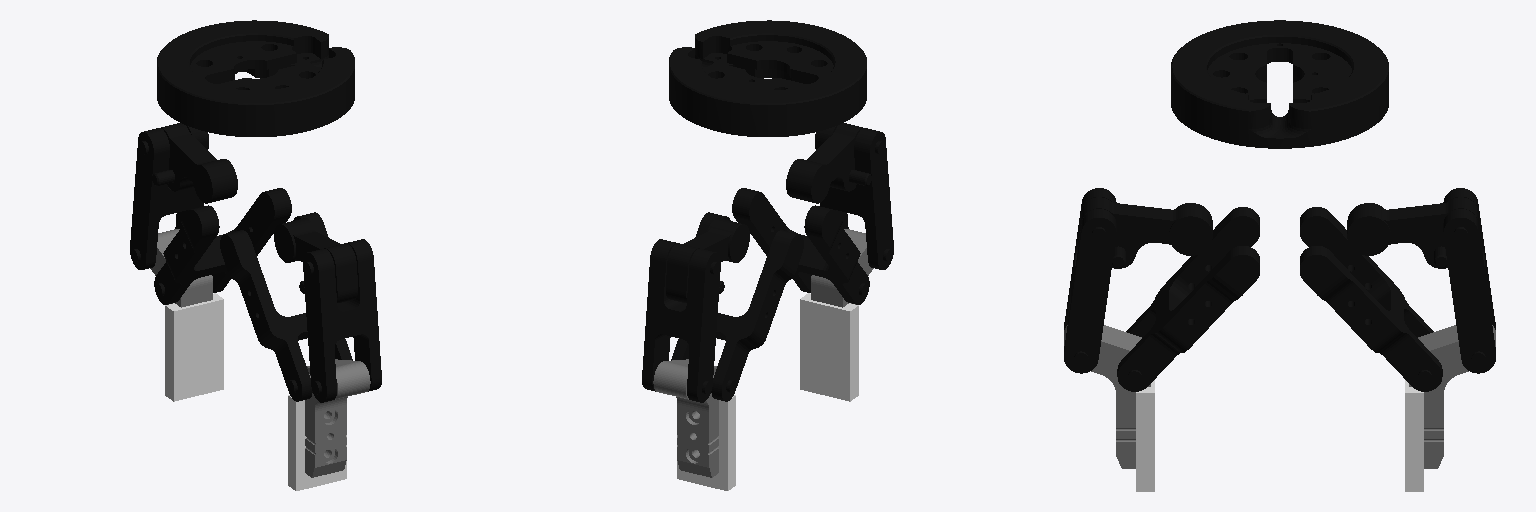
The robot description file, URDF, robot "panda":
<?xml version="1.0" ?>
<!-- =================================================================================== -->
<!-- |    This document was autogenerated by xacro from panda_arm_hand.urdf.xacro      | -->
<!-- |    EDITING THIS FILE BY HAND IS NOT RECOMMENDED                                 | -->
<!-- =================================================================================== -->
<robot name="panda" xmlns:xacro="http://www.ros.org/wiki/xacro">
  <link name="base_link">
    <visual>
      <geometry>
        <mesh filename="/franka_panda/visual/link0.dae"/>
      </geometry>
      <material name="panda_white"/>
    </visual>
    <collision>
      <geometry>
        <mesh filename="/franka_panda/visual/link0.dae"/>
      </geometry>
      <material name="panda_white"/>
    </collision>

    <inertial>
      <mass value="0.0"/>
      <origin xyz="0.0 0.0 0.0"/>
      <inertia ixx="0.000380" ixy="0.000000" ixz="0.000000" iyx="0.000000" iyy="0.001110" iyz="0.000000" izx="0.000000" izy="0.000000" izz="0.001171"/>
    </inertial>

  </link>

  <link name="panda_link1">
    <visual>
      <geometry>
        <mesh filename="/franka_panda/visual/link1.dae"/>
      </geometry>
      <material name="panda_white"/>
    </visual>
    <collision>
      <geometry>
        <mesh filename="/franka_panda/visual/link1.dae"/>
      </geometry>
      <material name="panda_white"/>
    </collision>
  </link>
  <joint name="panda_joint1" type="revolute">
    <safety_controller k_position="100.0" k_velocity="40.0" soft_lower_limit="-2.8973" soft_upper_limit="2.8973"/>
    <origin rpy="0 0 0" xyz="0 0 0.333"/>
    <parent link="base_link"/>
    <child link="panda_link1"/>
    <axis xyz="0 0 1"/>
    <limit effort="87" lower="-2.9671" upper="2.9671" velocity="2.1750"/>
  </joint>
  <link name="panda_link2">
    <visual>
      <geometry>
        <mesh filename="/franka_panda/visual/link2.dae"/>
      </geometry>
      <material name="panda_white"/>
    </visual>
    <collision>
      <geometry>
        <mesh filename="/franka_panda/visual/link2.dae"/>
      </geometry>
      <material name="panda_white"/>
    </collision>
  </link>
  <joint name="panda_joint2" type="revolute">
    <safety_controller k_position="100.0" k_velocity="40.0" soft_lower_limit="-1.7628" soft_upper_limit="1.7628"/>
    <origin rpy="-1.57079632679 0 0" xyz="0 0 0"/>
    <parent link="panda_link1"/>
    <child link="panda_link2"/>
    <axis xyz="0 0 1"/>
    <limit effort="87" lower="-1.8326" upper="1.8326" velocity="2.1750"/>
  </joint>
  <link name="panda_link3">
    <visual>
      <geometry>
        <mesh filename="/franka_panda/visual/link3.dae"/>
      </geometry>
      <material name="panda_white"/>
    </visual>
    <collision>
      <geometry>
        <mesh filename="/franka_panda/visual/link3.dae"/>
      </geometry>
      <material name="panda_white"/>
    </collision>
  </link>
  <joint name="panda_joint3" type="revolute">
    <safety_controller k_position="100.0" k_velocity="40.0" soft_lower_limit="-2.8973" soft_upper_limit="2.8973"/>
    <origin rpy="1.57079632679 0 0" xyz="0 -0.316 0"/>
    <parent link="panda_link2"/>
    <child link="panda_link3"/>
    <axis xyz="0 0 1"/>
    <limit effort="87" lower="-2.9671" upper="2.9671" velocity="2.1750"/>
  </joint>
  <link name="panda_link4">
    <visual>
      <geometry>
        <mesh filename="/franka_panda/visual/link4.dae"/>
      </geometry>
      <material name="panda_white"/>
    </visual>
    <collision>
      <geometry>
        <mesh filename="/franka_panda/visual/link4.dae"/>
      </geometry>
      <material name="panda_white"/>
    </collision>
  </link>
  <joint name="panda_joint4" type="revolute">
    <safety_controller k_position="100.0" k_velocity="40.0" soft_lower_limit="-3.0718" soft_upper_limit="-0.0698"/>
    <origin rpy="1.57079632679 0 0" xyz="0.0825 0 0"/>
    <parent link="panda_link3"/>
    <child link="panda_link4"/>
    <axis xyz="0 0 1"/>
    <limit effort="87" lower="-3.1416" upper="0.0" velocity="2.1750"/>
  </joint>
  <link name="panda_link5">
    <visual>
      <geometry>
        <mesh filename="/franka_panda/visual/link5.dae"/>
      </geometry>
      <material name="panda_white"/>
    </visual>
    <collision>
      <geometry>
        <mesh filename="/franka_panda/visual/link5.dae"/>
      </geometry>
      <material name="panda_white"/>
    </collision>
  </link>
  <joint name="panda_joint5" type="revolute">
    <safety_controller k_position="100.0" k_velocity="40.0" soft_lower_limit="-2.8973" soft_upper_limit="2.8973"/>
    <origin rpy="-1.57079632679 0 0" xyz="-0.0825 0.384 0"/>
    <parent link="panda_link4"/>
    <child link="panda_link5"/>
    <axis xyz="0 0 1"/>
    <limit effort="12" lower="-2.9671" upper="2.9671" velocity="2.6100"/>
  </joint>
  <link name="panda_link6">
    <visual>
      <geometry>
        <mesh filename="/franka_panda/visual/link6.dae"/>
      </geometry>
#      <material name="panda_white"/>
    </visual>
    <collision>
      <geometry>
        <mesh filename="/franka_panda/visual/link6.dae"/>
      </geometry>
      <material name="panda_white"/>
    </collision>
  </link>
  <joint name="panda_joint6" type="revolute">
    <safety_controller k_position="100.0" k_velocity="40.0" soft_lower_limit="-0.0175" soft_upper_limit="3.7525"/>
    <origin rpy="1.57079632679 0 0" xyz="0 0 0"/>
    <parent link="panda_link5"/>
    <child link="panda_link6"/>
    <axis xyz="0 0 1"/>
    <limit effort="12" lower="-0.0873" upper="3.8223" velocity="2.6100"/>
  </joint>
  <link name="panda_link7">
    <visual>
      <geometry>
        <mesh filename="/franka_panda/visual/link7.dae"/>
      </geometry>
      <material name="panda_white"/>
    </visual>
    <collision>
      <geometry>
        <mesh filename="/franka_panda/visual/link7.dae"/>
      </geometry>
      <material name="panda_white"/>
    </collision>
  </link>
  <joint name="panda_joint7" type="revolute">
    <safety_controller k_position="100.0" k_velocity="40.0" soft_lower_limit="-2.8973" soft_upper_limit="2.8973"/>
    <origin rpy="1.57079632679 0 0" xyz="0.088 0 0"/>
    <parent link="panda_link6"/>
    <child link="panda_link7"/>
    <axis xyz="0 0 1"/>
    <limit effort="12" lower="-2.9671" upper="2.9671" velocity="2.6100"/>
  </joint>
  <link name="panda_link8"/>

  <joint name="panda_joint8" type="fixed">
    <origin rpy="0 0 0" xyz="0 0 0.107"/>
    <parent link="panda_link7"/>
    <child link="panda_link8"/>
    <axis xyz="0 0 0"/>
  </joint>

  <joint name="panda_robotiq_coupling" type="fixed">
    <origin rpy="0 0 0" xyz="0 0 0"/>
    <parent link="panda_link8"/>
    <child link="robotiq_85_coupling_link"/>
    <axis xyz="0 0 0"/>
  </joint>

  <link name="robotiq_85_coupling_link">
    <visual>
      <geometry>
        <mesh filename="robotiq_2f_85/visual/robotiq_gripper_couplingvn.obj"/>
      </geometry>
      <material name="dark black"/>
    </visual>
    <collision>
      <geometry>
        <mesh filename="robotiq_2f_85/visual/robotiq_gripper_couplingvn.obj"/>
      </geometry>
    </collision>
  </link>

  <joint name="robotiq_85_base_joint" type="fixed">
    <parent link="robotiq_85_coupling_link"/>
    <child link="robotiq_85_base_link"/>
    <origin rpy="0 0 0" xyz="0 0 0"/>
  </joint>

  <link name="robotiq_85_base_link">
    <visual>
      <geometry>
        <mesh filename="robotiq_2f_85/visual/robotiq_arg2f_85_base_linkvn.obj"/>
      </geometry>
      <material name="Black"/>
    </visual>
    <collision>
      <geometry>
        <mesh filename="robotiq_2f_85/visual/robotiq_arg2f_85_base_linkvn.obj"/>
      </geometry>
    </collision>
      <inertial>
        <origin xyz="8.625E-08 -4.6583E-06 0.03145" rpy="0 0 0" />
        <mass value="0.22652" />
        <inertia ixx="0.00020005" ixy="-4.2442E-10" ixz="-2.9069E-10" iyy="0.00017832" iyz="-3.4402E-08" izz="0.00013478" />
      </inertial>
  </link>

  <joint name="robotiq_85_left_knuckle_joint" type="revolute">
    <parent link="robotiq_85_base_link"/>
    <child link="robotiq_85_left_knuckle_link"/>
    <axis xyz="1 0 0"/>
    <origin rpy="0 0.0 3.1415926" xyz="0 -0.0306011 0.054904"/>
    <limit lower="0" upper="0.81" velocity="100.0"/>
  </joint>
  <joint name="robotiq_85_right_knuckle_joint" type="revolute">
    <parent link="robotiq_85_base_link"/>
    <child link="robotiq_85_right_knuckle_link"/>
    <axis xyz="1 0 0"/>
    <origin rpy="0.0 0.0 0" xyz="0 0.0306011 0.054904"/>
    <limit lower="0" upper="0.81" velocity="100.0"/>
  </joint>

  <link name="robotiq_85_left_knuckle_link">
    <visual>
      <geometry>
        <mesh filename="robotiq_2f_85/visual/robotiq_arg2f_85_outer_knucklevn.obj"/>
      </geometry>
    <material name="Black"/>
    </visual>
    <collision>
      <geometry>
        <mesh filename="robotiq_2f_85/visual/robotiq_arg2f_85_outer_knucklevn.obj"/>
      </geometry>
    </collision>
    <!--<inertial>
        <origin xyz="-0.000200000000003065 0.0199435877845359 0.0292245259211331" rpy="0 0 0" />
        <mass value="0.00853198276973456" />
        <inertia ixx="2.89328108496468E-06" ixy="-1.57935047237397E-19" ixz="-1.93980378593255E-19" iyy="1.86719750325683E-06" iyz="-1.21858577871576E-06" izz="1.21905238907251E-06" />
    </inertial>-->
  </link>

  <link name="robotiq_85_right_knuckle_link">
    <visual>
      <geometry>
        <mesh filename="robotiq_2f_85/visual/robotiq_arg2f_85_outer_knucklevn.obj"/>
      </geometry>
      <material name="Black"/>
    </visual>
    <collision>
      <geometry>
        <mesh filename="robotiq_2f_85/visual/robotiq_arg2f_85_outer_knucklevn.obj"/>
      </geometry>
    </collision>
    <!--<inertial>
        <origin xyz="-0.000200000000003065 0.0199435877845359 0.0292245259211331" rpy="0 0 0" />
        <mass value="0.00853198276973456" />
        <inertia ixx="2.89328108496468E-06" ixy="-1.57935047237397E-19" ixz="-1.93980378593255E-19" iyy="1.86719750325683E-06" iyz="-1.21858577871576E-06" izz="1.21905238907251E-06" />
    </inertial>-->
  </link>


  <joint name="robotiq_85_left_finger_joint" type="fixed">
    <parent link="robotiq_85_left_knuckle_link"/>
    <child link="robotiq_85_left_finger_link"/>
    <origin rpy="0 0 0" xyz="0 0.0315 -0.0041"/>
    <limit lower="-3.14" upper="3.14" velocity="100.0"/>
  </joint>
  <joint name="robotiq_85_right_finger_joint" type="fixed">
    <parent link="robotiq_85_right_knuckle_link"/>
    <child link="robotiq_85_right_finger_link"/>
    <origin rpy="0 0 0" xyz="0 0.0315 -0.0041"/>
    <limit lower="-3.14" upper="3.14" velocity="100.0"/>
  </joint>

  <link name="robotiq_85_left_finger_link">
    <visual>
      <geometry>
        <mesh filename="robotiq_2f_85/visual/robotiq_arg2f_85_outer_fingervn.obj"/>
      </geometry>
      <material name="Black"/>
    </visual>
    <collision>
      <geometry>
        <mesh filename="robotiq_2f_85/visual/robotiq_arg2f_85_outer_fingervn.obj"/>
      </geometry>
    </collision>
    <!--<inertial>
      <mass value="0.027309"/>
      <origin xyz="0.0 0.0 0.0"/>
      <inertia ixx="0.000003" ixy="-0.000002" ixz="0.000000" iyx="-0.000002" iyy="0.000021" iyz="0.000000" izx="0.000000" izy="0.000000" izz="0.000020"/>
    </inertial>-->
  </link>
  <link name="robotiq_85_right_finger_link">
    <visual>
      <geometry>
        <mesh filename="robotiq_2f_85/visual/robotiq_arg2f_85_outer_fingervn.obj"/>
      </geometry>
      <material name="Black"/>
    </visual>
    <collision>
      <geometry>
        <mesh filename="robotiq_2f_85/visual/robotiq_arg2f_85_outer_fingervn.obj"/>
      </geometry>
    </collision>
    <!--<inertial>
      <mass value="0.027309"/>
      <origin xyz="0.0 0.0 0.0"/>
      <inertia ixx="0.000003" ixy="-0.000002" ixz="0.000000" iyx="-0.000002" iyy="0.000021" iyz="0.000000" izx="0.000000" izy="0.000000" izz="0.000020"/>
    </inertial>-->
  </link>

<joint name="robotiq_85_left_inner_knuckle_joint" type="revolute">
    <parent link="robotiq_85_base_link"/>
    <child link="robotiq_85_left_inner_knuckle_link"/>
    <axis xyz="1 0 0"/>
    <origin rpy="0 0.0 0" xyz="0 0.0127 0.06142"/>
    <limit lower="0" upper="0.8757" velocity="100.0"/>
  </joint>
  <joint name="robotiq_85_right_inner_knuckle_joint" type="revolute">
    <parent link="robotiq_85_base_link"/>
    <child link="robotiq_85_right_inner_knuckle_link"/>
    <axis xyz="1 0 0"/>
    <origin rpy="0 0 3.1415926" xyz="0 -0.0127 0.06142"/>
    <limit lower="0" upper="0.8757" velocity="100.0"/>
  </joint>
  <link name="robotiq_85_left_inner_knuckle_link">
    <visual>
      <geometry>
        <mesh filename="robotiq_2f_85/visual/robotiq_arg2f_85_inner_knucklevn.obj"/>
      </geometry>
      <material name="Black"/>
    </visual>
    <collision>
      <geometry>
        <mesh filename="robotiq_2f_85/visual/robotiq_arg2f_85_inner_knucklevn.obj"/>
      </geometry>
    </collision>
    <!--<inertial>
      <mass value="0.029951"/>
      <origin xyz="0.0 0.0 0.0"/>
      <inertia ixx="0.000039" ixy="0.000000" ixz="0.000000" iyx="0.000000" iyy="0.000005" iyz="0.000000" izx="0.000000" izy="0.000000" izz="0.000035"/>
    </inertial>-->
  </link>
  <link name="robotiq_85_right_inner_knuckle_link">
    <visual>
     <geometry>
        <mesh filename="robotiq_2f_85/visual/robotiq_arg2f_85_inner_knucklevn.obj"/>
      </geometry>
      <material name="Black"/>
    </visual>
    <collision>
     <geometry>
        <mesh filename="robotiq_2f_85/visual/robotiq_arg2f_85_inner_knucklevn.obj"/>
      </geometry>
    </collision>
    <!--<inertial>
      <mass value="0.029951"/>
      <origin xyz="0.0 0.0 0.0"/>
      <inertia ixx="0.000039" ixy="0.000000" ixz="0.000000" iyx="0.000000" iyy="0.000005" iyz="0.000000" izx="0.000000" izy="0.000000" izz="0.000035"/>
    </inertial>-->
  </link>

  <joint name="robotiq_85_left_finger_tip_joint" type="revolute">
    <parent link="robotiq_85_left_finger_link"/>
    <child link="robotiq_85_left_finger_tip_link"/>
    <axis xyz="1 0 0"/>
    <origin rpy="0.0 0.0 0.0" xyz="0 0.0061 0.0471"/>
    <limit lower="0" upper="-0.8" velocity="100.0"/>
  </joint>
  <joint name="robotiq_85_right_finger_tip_joint" type="revolute">
    <parent link="robotiq_85_right_finger_link"/>
    <child link="robotiq_85_right_finger_tip_link"/>
    <axis xyz="1 0 0"/>
    <origin rpy="0.0 0.0 0.0" xyz="0 0.0061 0.0471"/>
    <limit lower="0" upper="-0.8" velocity="100.0"/>
  </joint>

  <link name="robotiq_85_left_finger_tip_link">
    <contact>
      <lateral_friction value="2.0"/>
      <spinning_friction value="0.1"/>
    </contact>
    <visual>
      <geometry>
        <mesh filename="robotiq_2f_85/visual/robotiq_arg2f_85_inner_fingervn.obj"/>
      </geometry>
      <material name="Gray"/>
    </visual>
    <collision>
      <geometry>
        <mesh filename="robotiq_2f_85/visual/robotiq_arg2f_85_inner_fingervn.obj"/>
      </geometry>
    </collision>
    <!--<inertial>
      <mass value="0.019555"/>
      <origin xyz="0.0 0.0 0.0"/>
      <inertia ixx="0.000002" ixy="0.000000" ixz="0.000000" iyx="0.000000" iyy="0.000005" iyz="0.000000" izx="0.000000" izy="0.000000" izz="0.000006"/>
    </inertial> -->
  </link>
  <link name="robotiq_85_right_finger_tip_link">
    <contact>
      <lateral_friction value="2.0"/>
      <spinning_friction value="0.1"/>
    </contact>
    <visual>
      <geometry>
        <mesh filename="robotiq_2f_85/visual/robotiq_arg2f_85_inner_fingervn.obj"/>
      </geometry>
      <material name="Gray"/>
    </visual>
    <collision>
      <geometry>
        <mesh filename="robotiq_2f_85/visual/robotiq_arg2f_85_inner_fingervn.obj"/>
      </geometry>
    </collision>
    <!--<inertial>
      <mass value="0.019555"/>
      <origin xyz="0.0 0.0 0.0"/>
      <inertia ixx="0.000002" ixy="0.000000" ixz="0.000000" iyx="0.000000" iyy="0.000005" iyz="0.000000" izx="0.000000" izy="0.000000" izz="0.000006"/>
    </inertial>-->
  </link>

    <joint name="robotiq_2f_85_left_inner_finger_pad_joint" type="fixed">
      <origin xyz="0 -0.0220203446692936 0.03242" rpy="0 0 0"/>
      <parent link="robotiq_85_left_finger_tip_link" />
      <child link="robotiq_2f_85_left_inner_finger_pad" />
      <axis xyz="0 0 1" />
    </joint>

    <joint name="robotiq_2f_85_right_inner_finger_pad_joint" type="fixed">
      <origin xyz="0 -0.0220203446692936 0.03242" rpy="0 0 0"/>
      <parent link="robotiq_85_right_finger_tip_link" />
      <child link="robotiq_2f_85_right_inner_finger_pad" />
      <axis xyz="0 0 1" />
    </joint>

    <link name="robotiq_2f_85_left_inner_finger_pad">
      <visual>
        <origin xyz="0 0 0" rpy="0 0 0" />
        <geometry>
          <box size="0.022 0.00635 0.0375"/>
        </geometry>
        <material name="">
          <color rgba="0.9 0.9 0.9 1" />
        </material>
      </visual>
      <collision>
        <origin xyz="0 0 0" rpy="0 0 0" />
        <geometry>
           <box size="0.022 0.00635 0.0375"/>
        </geometry>
        <material name="">
          <color rgba="0.9 0.9 0.9 1" />
        </material>
      </collision>
    </link>


    <link name="robotiq_2f_85_right_inner_finger_pad">
      <visual>
        <origin xyz="0 0 0" rpy="0 0 0" />
        <geometry>
          <box size="0.022 0.00635 0.0375"/>
        </geometry>
        <material name="">
          <color rgba="0.9 0.9 0.9 1" />
        </material>
      </visual>
      <collision>
        <origin xyz="0 0 0" rpy="0 0 0" />
        <geometry>
           <box size="0.022 0.00635 0.0375"/>
        </geometry>
        <material name="">
          <color rgba="0.9 0.9 0.9 1" />
        </material>
      </collision>
    </link>


<material name="panda_white">
    <color rgba="1. 1. 1. 1."/>
  </material>
  <material name="dark black">
    <color rgba="0.1 0.1 0.1 1.0"/>
  </material>
  <material name="Black">
    <color rgba="0.1 0.1 0.1 1.0"/>
  </material>
  <material name="Gray">
    <color rgba="0.5 0.5 0.5 1.0"/>
  </material>
</robot>

--- Facts derived from the render (not from the file) ---
Views: 3 orthographic renders of the robot side by side, from view 1: azimuth 30°, elevation 25°; view 2: azimuth 150°, elevation 25°; view 3: azimuth 270°, elevation 25°.
Model panda with 21 links and 20 joints (13 revolute, 7 fixed), rooted at base_link, posed all joints at 0.
Visible links, largest first — view 1: robotiq_85_coupling_link, robotiq_85_right_finger_link, robotiq_85_right_inner_knuckle_link, robotiq_85_left_inner_knuckle_link, robotiq_2f_85_left_inner_finger_pad, robotiq_85_left_finger_link, robotiq_85_right_finger_tip_link, robotiq_85_left_knuckle_link, robotiq_85_right_knuckle_link, robotiq_2f_85_right_inner_finger_pad, robotiq_85_left_finger_tip_link; view 2: robotiq_85_coupling_link, robotiq_85_left_finger_link, robotiq_85_left_inner_knuckle_link, robotiq_85_right_inner_knuckle_link, robotiq_2f_85_right_inner_finger_pad, robotiq_85_right_finger_link, robotiq_85_left_finger_tip_link, robotiq_85_right_knuckle_link, robotiq_85_left_knuckle_link, robotiq_2f_85_left_inner_finger_pad, robotiq_85_right_finger_tip_link; view 3: robotiq_85_coupling_link, robotiq_85_left_inner_knuckle_link, robotiq_85_right_inner_knuckle_link, robotiq_85_right_finger_link, robotiq_85_left_finger_link, robotiq_85_left_knuckle_link, robotiq_85_right_knuckle_link, robotiq_85_left_finger_tip_link, robotiq_85_right_finger_tip_link, robotiq_2f_85_left_inner_finger_pad, robotiq_2f_85_right_inner_finger_pad.
Boxes of the visible links, bbox=[...] form: robotiq_85_coupling_link: bbox=[157, 20, 354, 136]; robotiq_85_right_finger_link: bbox=[303, 239, 381, 402]; robotiq_85_right_inner_knuckle_link: bbox=[154, 188, 291, 304]; robotiq_85_left_inner_knuckle_link: bbox=[220, 212, 352, 401]; robotiq_2f_85_left_inner_finger_pad: bbox=[165, 293, 223, 401]; robotiq_85_left_finger_link: bbox=[130, 125, 208, 269]; robotiq_85_right_finger_tip_link: bbox=[305, 359, 370, 477]; robotiq_85_left_knuckle_link: bbox=[152, 123, 237, 203]; robotiq_85_right_knuckle_link: bbox=[274, 218, 357, 302]; robotiq_2f_85_right_inner_finger_pad: bbox=[288, 395, 346, 490]; robotiq_85_left_finger_tip_link: bbox=[150, 229, 212, 307]; robotiq_85_coupling_link: bbox=[669, 20, 866, 136]; robotiq_85_left_finger_link: bbox=[642, 239, 720, 402]; robotiq_85_left_inner_knuckle_link: bbox=[732, 188, 869, 304]; robotiq_85_right_inner_knuckle_link: bbox=[671, 212, 803, 401]; robotiq_2f_85_right_inner_finger_pad: bbox=[800, 293, 858, 401]; robotiq_85_right_finger_link: bbox=[815, 125, 893, 269]; robotiq_85_left_finger_tip_link: bbox=[653, 359, 718, 477]; robotiq_85_right_knuckle_link: bbox=[786, 123, 871, 203]; robotiq_85_left_knuckle_link: bbox=[666, 218, 749, 302]; robotiq_2f_85_left_inner_finger_pad: bbox=[677, 395, 735, 490]; robotiq_85_right_finger_tip_link: bbox=[811, 229, 873, 307]; robotiq_85_coupling_link: bbox=[1171, 20, 1388, 148]; robotiq_85_left_inner_knuckle_link: bbox=[1117, 207, 1259, 391]; robotiq_85_right_inner_knuckle_link: bbox=[1300, 207, 1442, 391]; robotiq_85_right_finger_link: bbox=[1064, 188, 1116, 373]; robotiq_85_left_finger_link: bbox=[1443, 188, 1495, 373]; robotiq_85_left_knuckle_link: bbox=[1347, 197, 1481, 268]; robotiq_85_right_knuckle_link: bbox=[1078, 197, 1212, 268]; robotiq_85_left_finger_tip_link: bbox=[1409, 325, 1495, 468]; robotiq_85_right_finger_tip_link: bbox=[1064, 325, 1150, 468]; robotiq_2f_85_left_inner_finger_pad: bbox=[1405, 380, 1423, 491]; robotiq_2f_85_right_inner_finger_pad: bbox=[1136, 380, 1154, 491].
Bounding box of the posed robot: 0.075 × 0.1484 × 0.1561 m (x, y, z).
Meshes: 6 distinct files referenced, 9 mesh visuals loaded (5 OBJ); not drawn: 1 (reference not matched to a file when rendering), 8 (reference in a form the renderer does not follow; not among the files counted above).